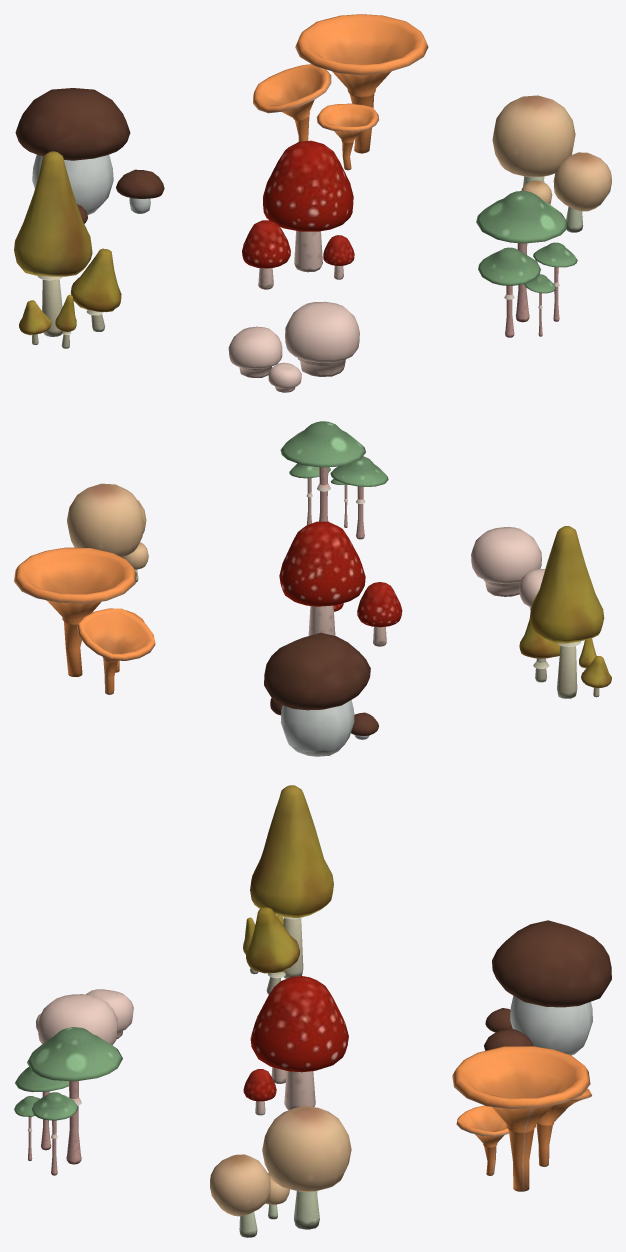
File: mushrooms.glb
3 views of the same model, one above another, from view 1: azimuth 30°, elevation 25°; view 2: azimuth 150°, elevation 25°; view 3: azimuth 270°, elevation 25° (orthographic). The views are drawn at different scales.
Parts seen in each view (by area): view 1: Object_7, Object_8, Object_4, Object_3, Object_6, Object_5, Object_2; view 2: Object_7, Object_3, Object_8, Object_4, Object_5, Object_6, Object_2; view 3: Object_3, Object_7, Object_8, Object_6, Object_4, Object_5, Object_2.
Boxes of the visible parts, x1,y1,x2,y2 form: Object_7: [253, 14, 428, 170]; Object_8: [14, 151, 121, 348]; Object_4: [242, 140, 354, 289]; Object_3: [15, 88, 164, 223]; Object_6: [492, 95, 611, 232]; Object_5: [476, 191, 577, 337]; Object_2: [228, 301, 359, 392]; Object_7: [14, 547, 155, 694]; Object_3: [264, 632, 378, 756]; Object_8: [519, 526, 611, 698]; Object_4: [279, 521, 402, 646]; Object_5: [280, 421, 388, 539]; Object_6: [67, 483, 148, 582]; Object_2: [471, 527, 545, 610]; Object_3: [484, 920, 611, 1055]; Object_7: [452, 1046, 591, 1191]; Object_8: [243, 785, 333, 994]; Object_6: [210, 1106, 351, 1237]; Object_4: [243, 975, 348, 1115]; Object_5: [14, 1027, 122, 1175]; Object_2: [36, 989, 133, 1045].
Size of the model in its own units: 0.4863 by 0.15 by 0.4231.
6 materials, 6 textured.
